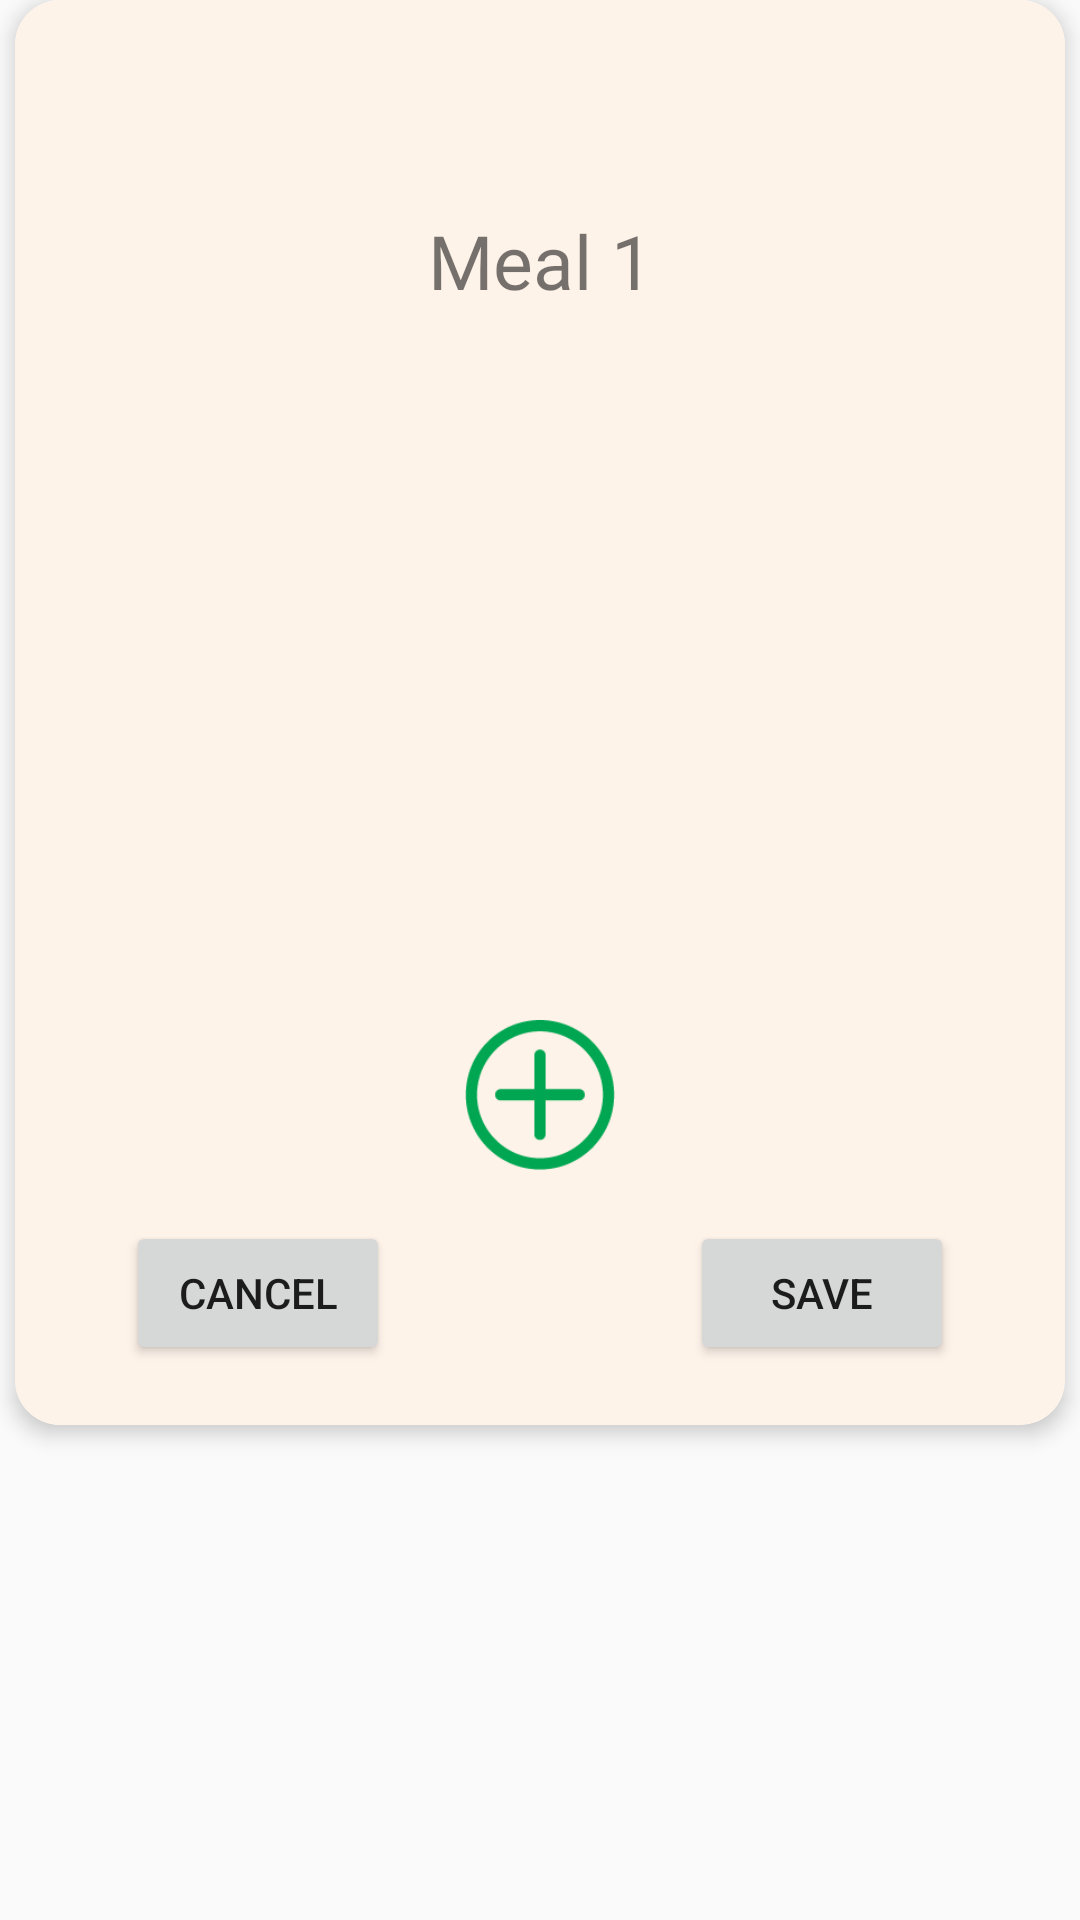

Icon click points for this 1080 x 1920 phone screenshot, format point (x, y):
add: point (540, 1095)
